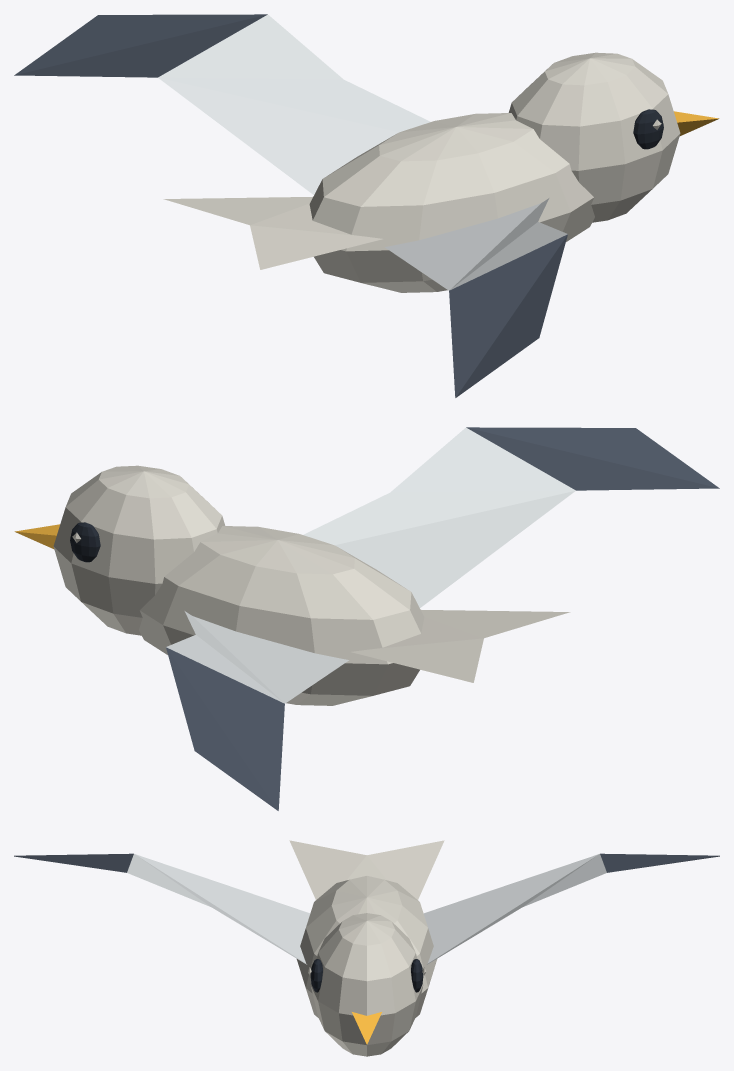
The model's file is seagull.glb.
The picture shows the model from 3 angles, top to bottom: view 1: azimuth 30°, elevation 25°; view 2: azimuth 150°, elevation 25°; view 3: azimuth 270°, elevation 25°; orthographic projection. The views are drawn at different scales.
Visible parts, largest first — view 1: body_feathers, wing_feathers, wing_tips, eye; view 2: body_feathers, wing_feathers, wing_tips, eye; view 3: body_feathers, wing_feathers, wing_tips, eye, beak.
Boxes of the visible parts, <box> form: body_feathers: <box>163,52,680,292</box>; wing_feathers: <box>158,14,567,290</box>; wing_tips: <box>14,14,567,397</box>; eye: <box>633,109,663,149</box>; body_feathers: <box>53,465,570,705</box>; wing_feathers: <box>166,427,575,703</box>; wing_tips: <box>166,427,719,810</box>; eye: <box>70,522,100,562</box>; body_feathers: <box>289,840,444,1056</box>; wing_feathers: <box>127,854,606,964</box>; wing_tips: <box>14,853,719,872</box>; eye: <box>310,959,423,992</box>; beak: <box>352,1012,381,1044</box>.
Bounding box in the file's own units: 0.665 × 0.235 × 1.
